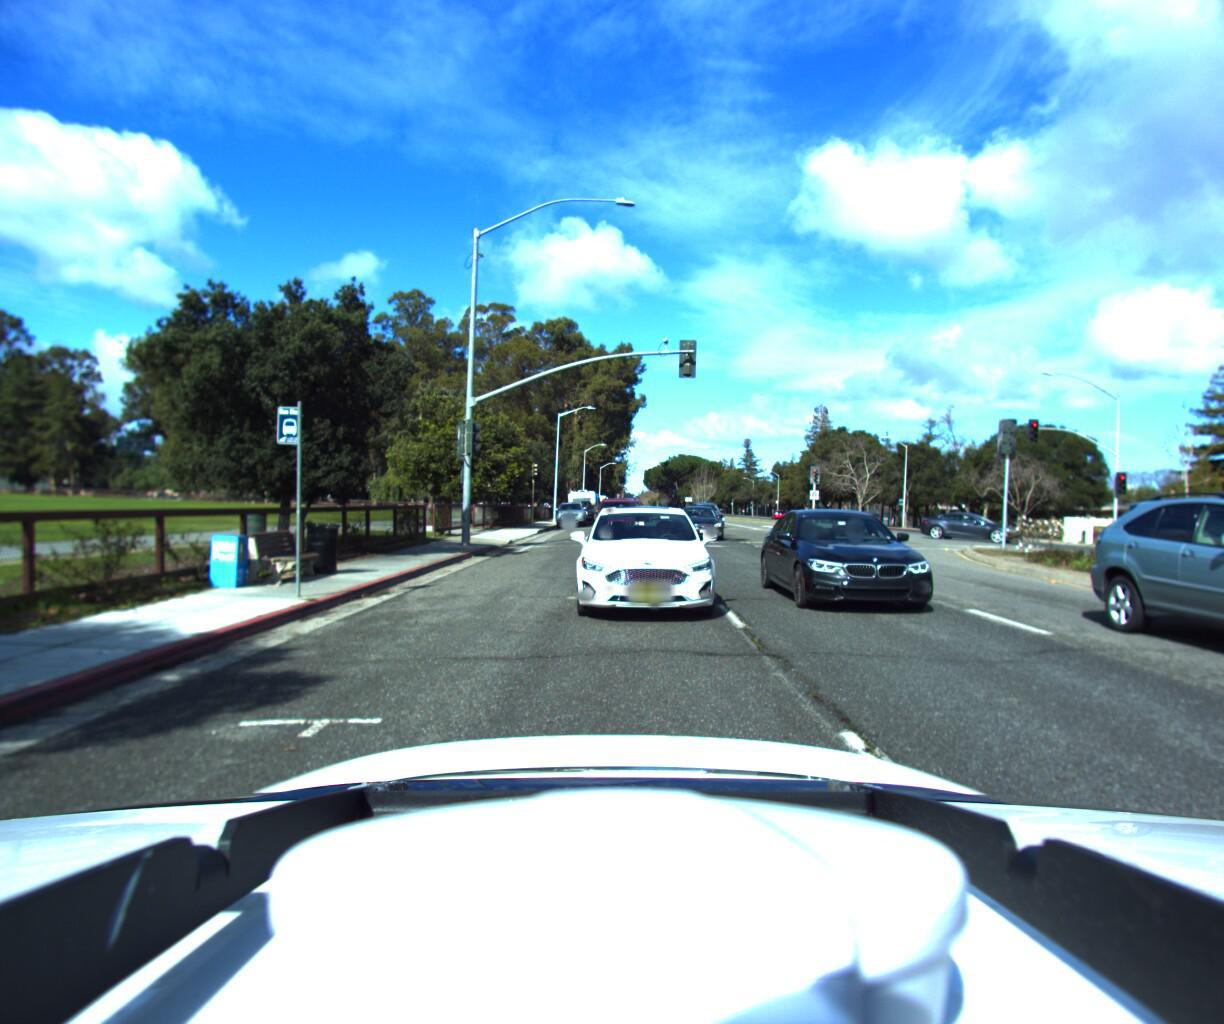car: (761, 502, 984, 631), (1146, 479, 1224, 752), (563, 504, 725, 628), (931, 511, 1040, 543), (591, 495, 650, 545), (676, 505, 732, 543), (689, 501, 729, 529), (550, 501, 586, 528), (850, 511, 879, 527)
other_vehicle: (561, 486, 600, 524)
